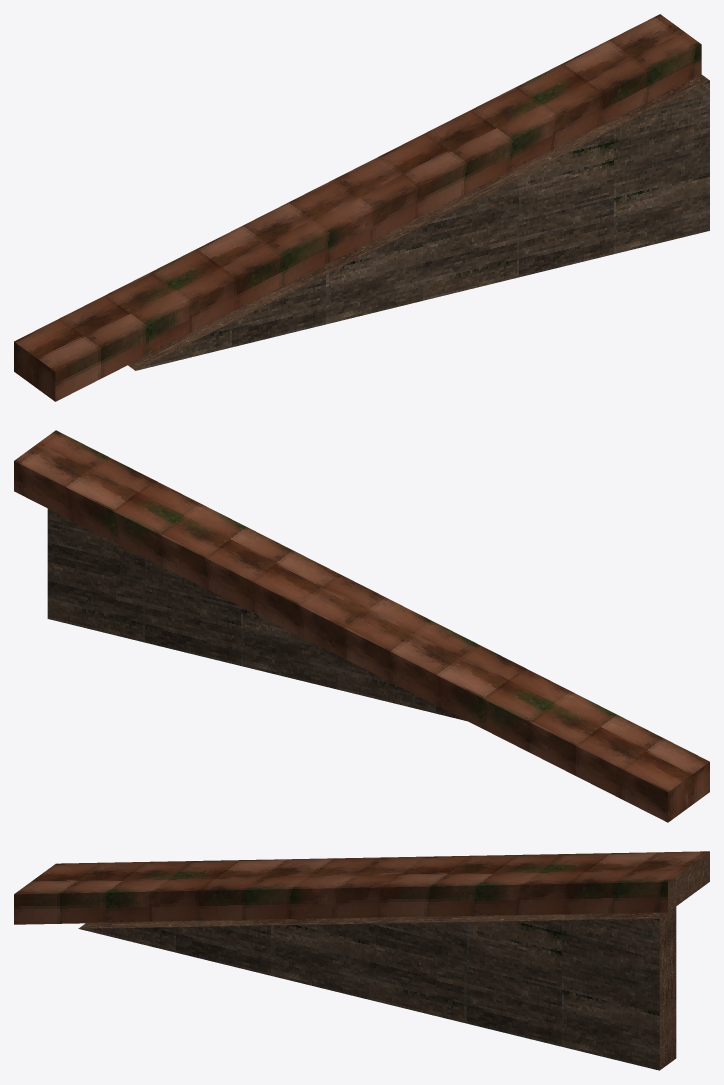
File: roof_12_L.glb
The picture shows the model from 3 angles, top to bottom: view 1: azimuth 30°, elevation 25°; view 2: azimuth 150°, elevation 25°; view 3: azimuth 330°, elevation 25°; orthographic projection.
Visible parts, largest first — view 1: roof_12_L2; view 2: roof_12_L2; view 3: roof_12_L2.
Boxes of the visible parts, box(x1,y1,x2,y2) form: roof_12_L2: box(14, 14, 709, 401); roof_12_L2: box(14, 430, 709, 822); roof_12_L2: box(14, 851, 709, 1070).
Bounding box in the file's own units: 4.5 × 1.33 × 0.6.
1 material, 1 textured.
